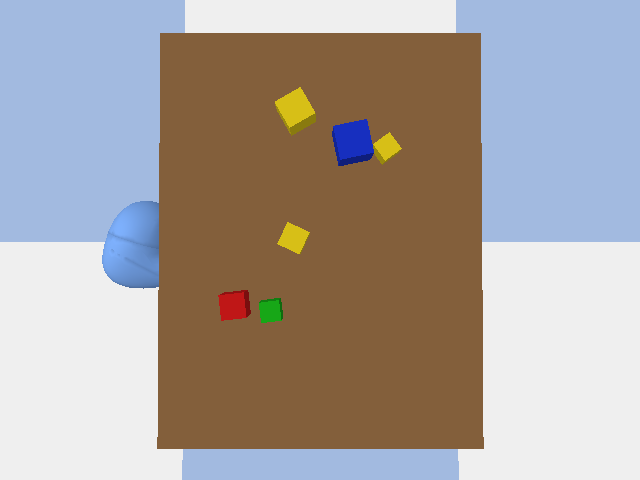blue_obj: (332, 119, 373, 165)
green_obj: (259, 298, 282, 322)
red_obj: (218, 290, 250, 320)
yellow_obj: (275, 87, 315, 135), (277, 222, 309, 253), (373, 132, 401, 164)
